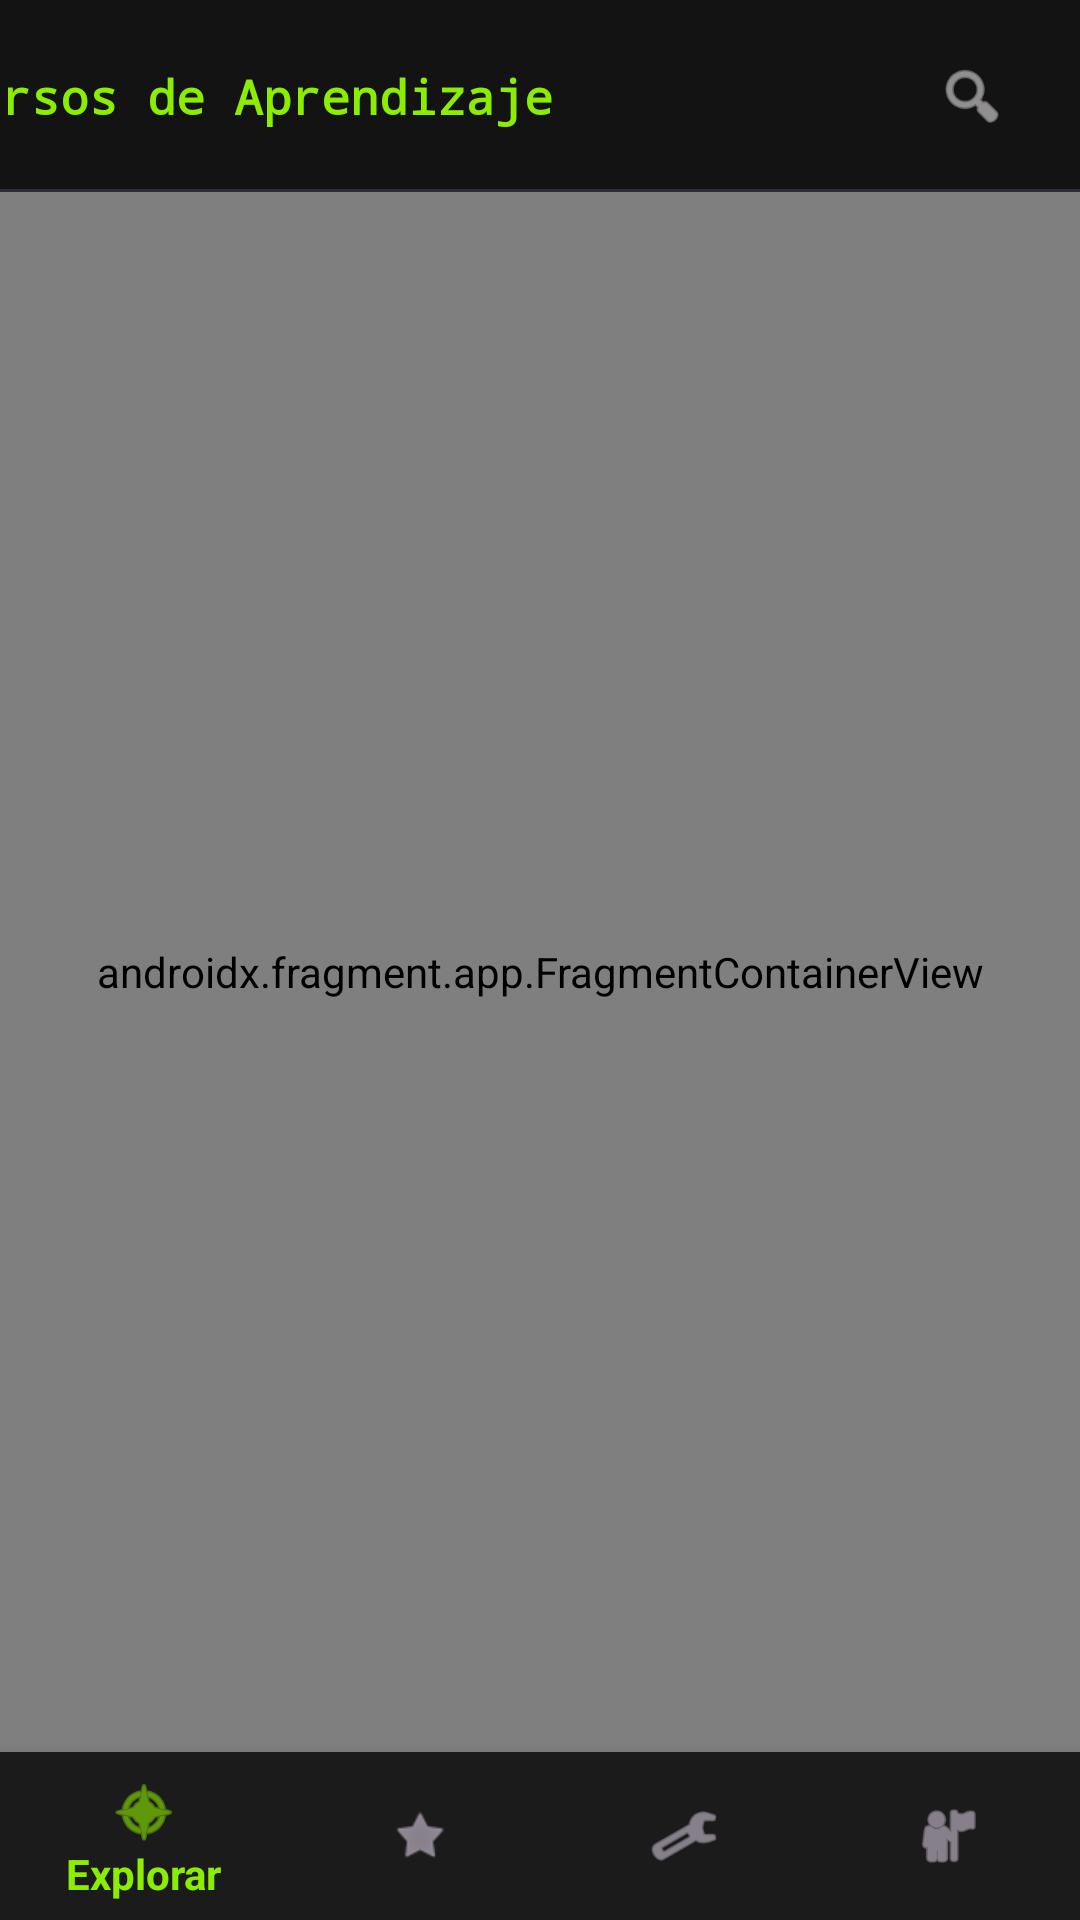

Icons on this 1080 × 1920 Android screen, each with its box as (x1, y1, x2, y2):
search: (945, 70, 999, 123)
